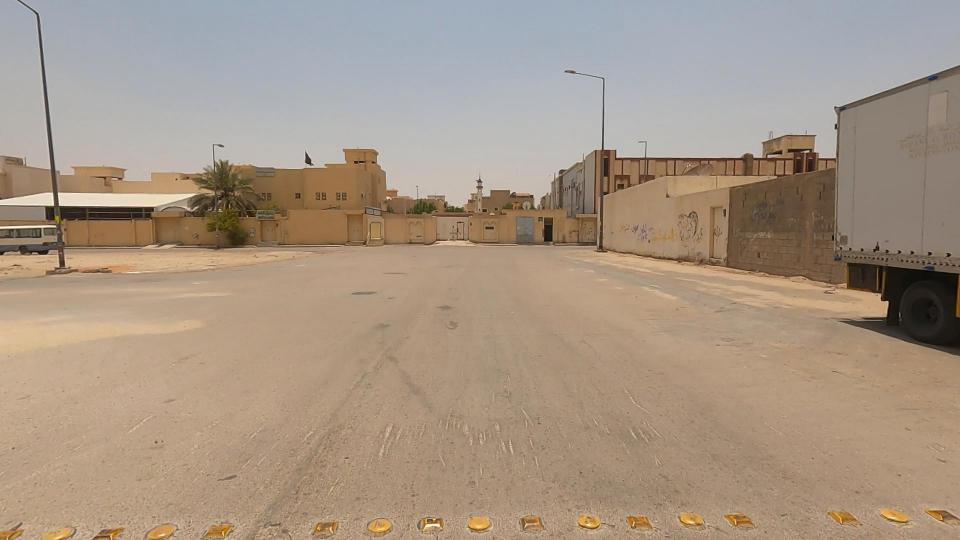GRAFFITI: (581, 200, 688, 265), (639, 186, 728, 264)
